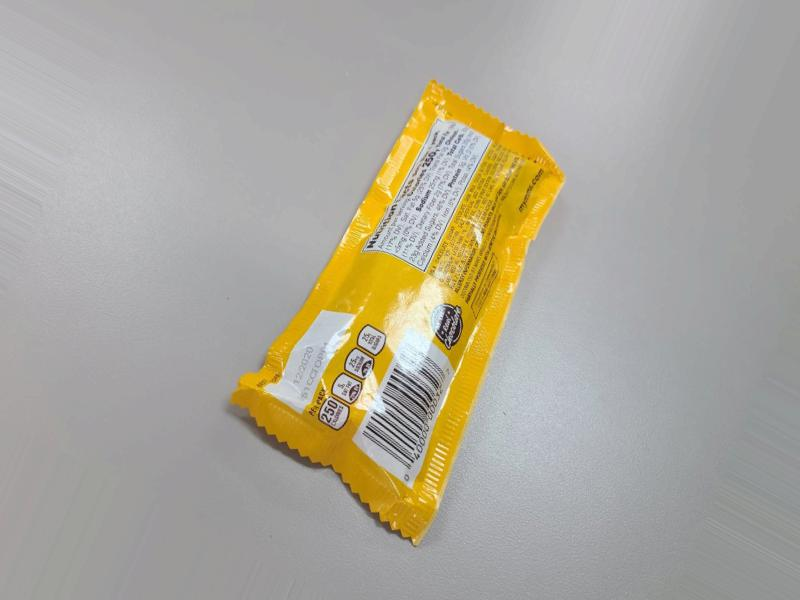m&m: (257, 86, 553, 522)
